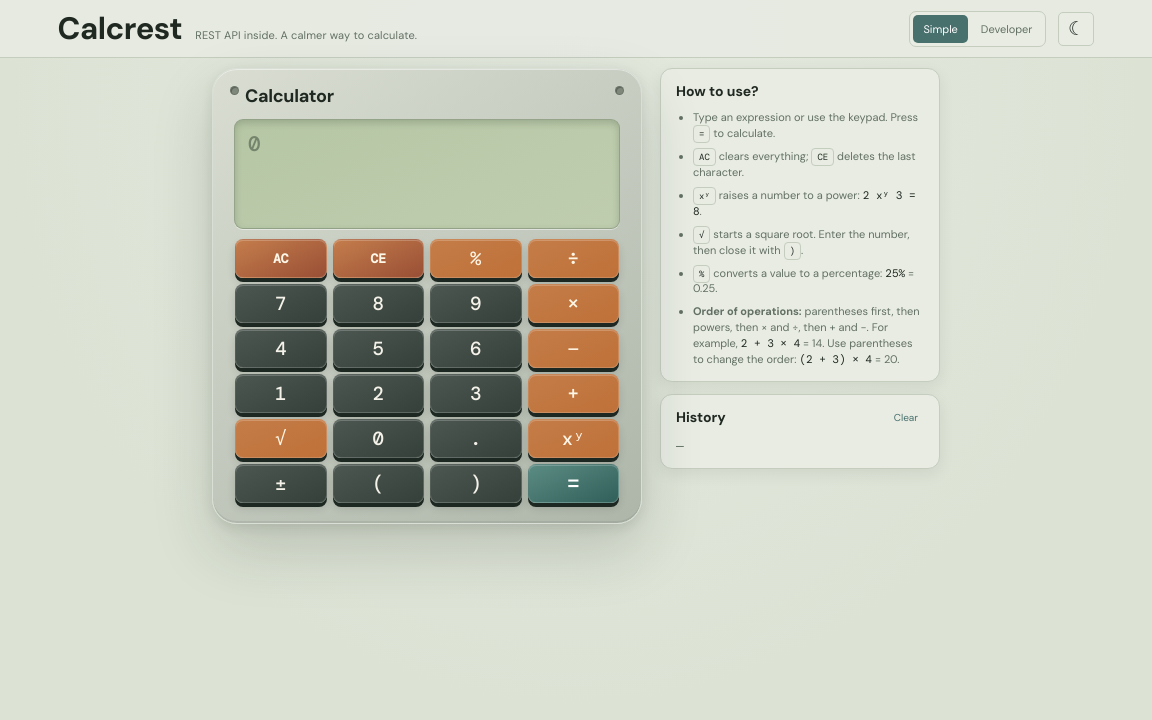
calculator frontend › sends an expression to the API and displays its result
Type "5 + 4 - (8 - 9) * 3" into the text box named "Mathematical expression" at (427, 154), box [246,129,608,178]
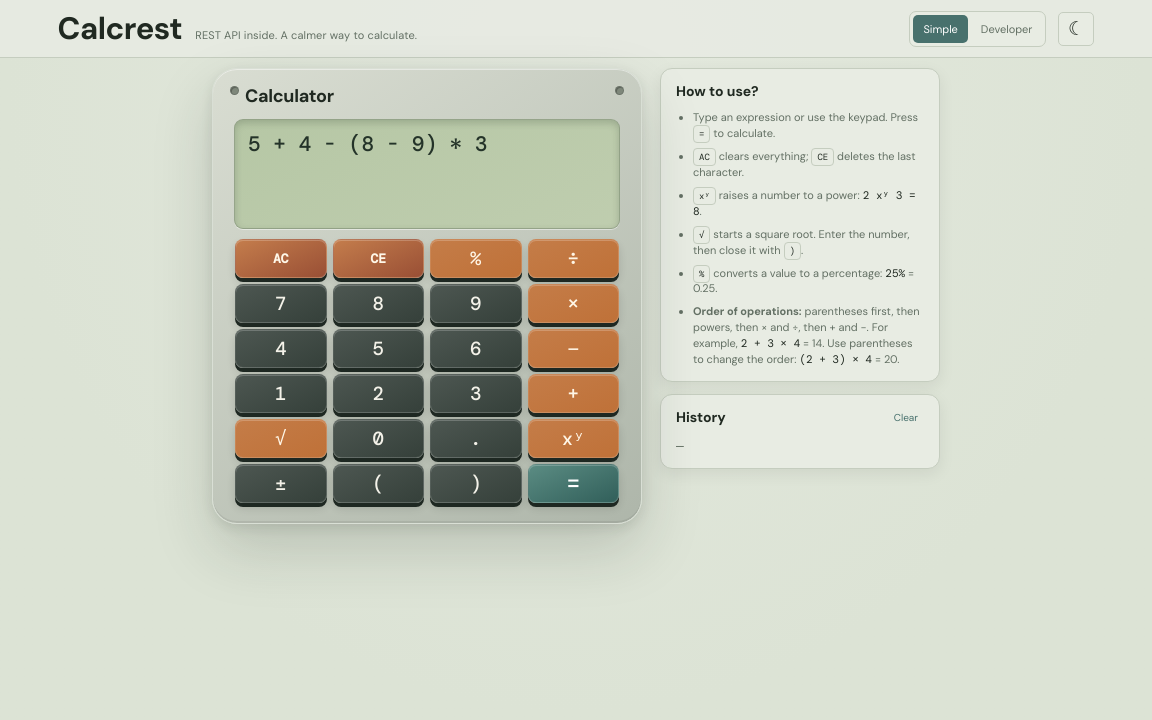
Press Enter
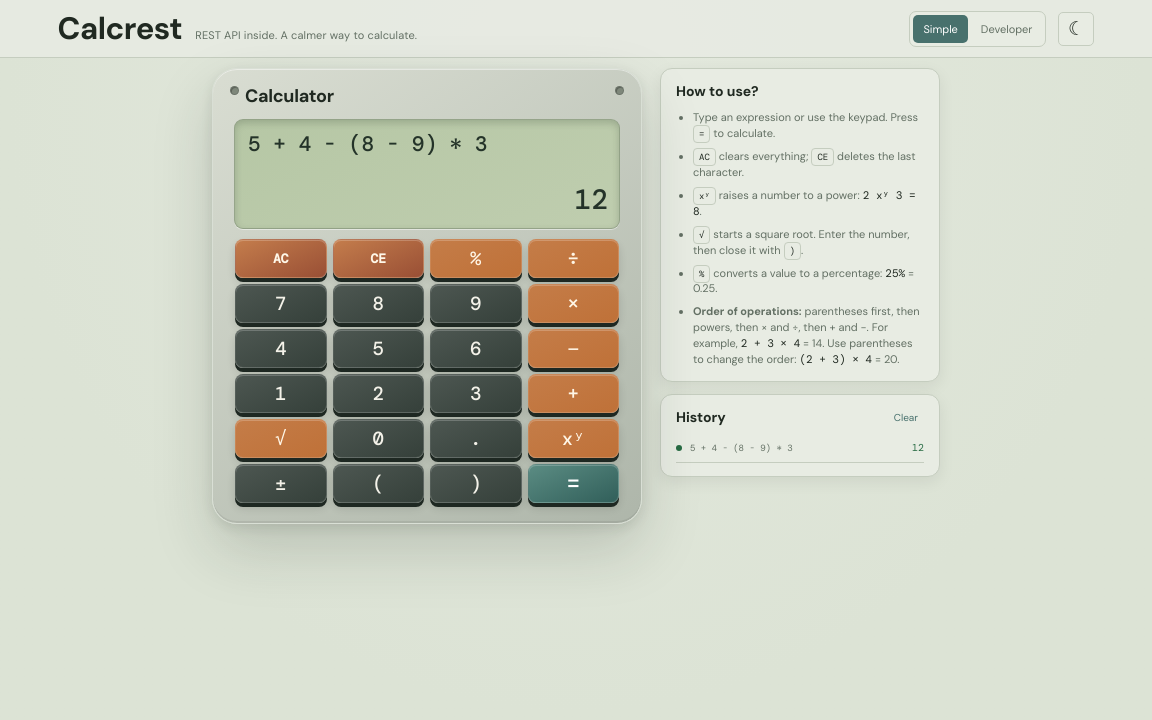
Check: the text named "Calculation result" reads "12", box [574,181,608,218]
